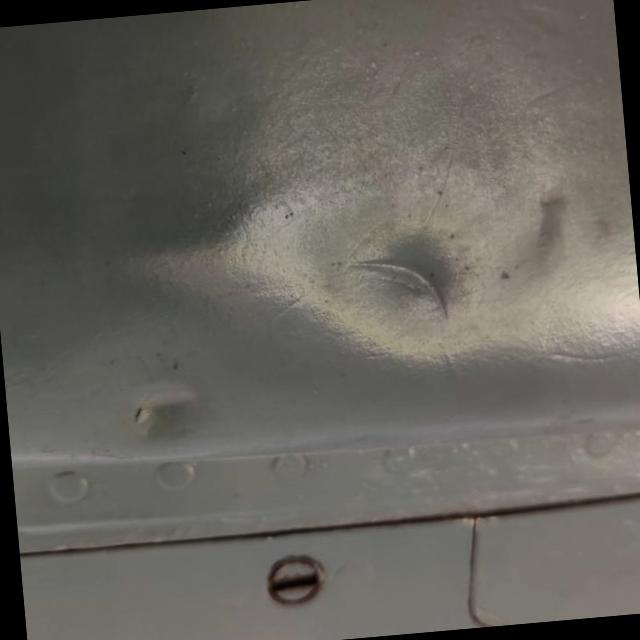dent: (304, 195, 484, 374), (94, 354, 224, 460)
